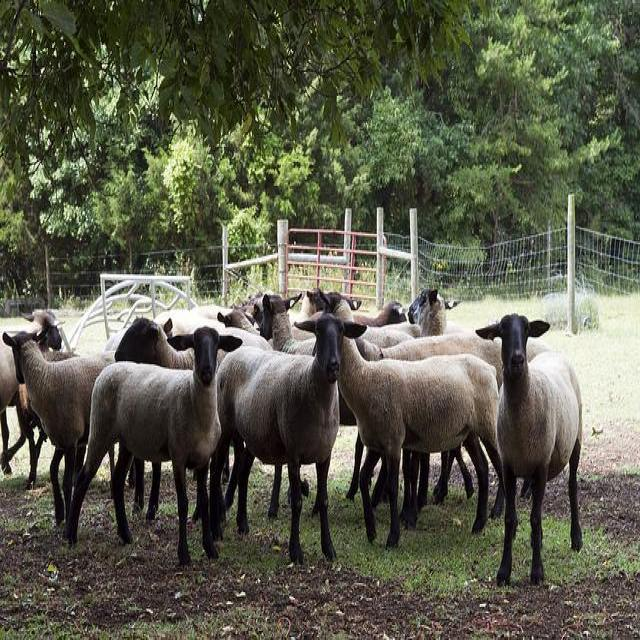Sheep: (19, 277, 494, 547), (318, 298, 503, 546), (56, 330, 244, 568), (217, 313, 368, 568), (2, 331, 163, 525), (474, 313, 584, 586), (363, 332, 506, 534), (407, 288, 507, 499), (0, 310, 65, 480), (115, 319, 229, 372), (259, 294, 316, 355), (250, 448, 283, 525)
